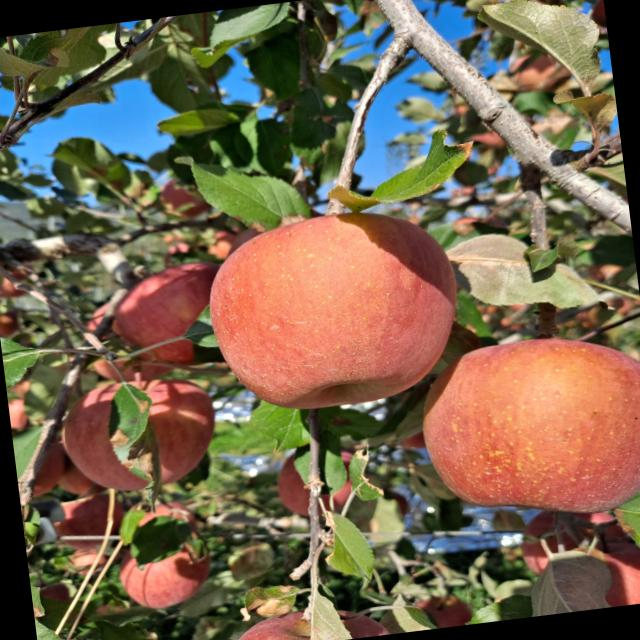fresh: (186, 189, 480, 429), (403, 318, 640, 537)
